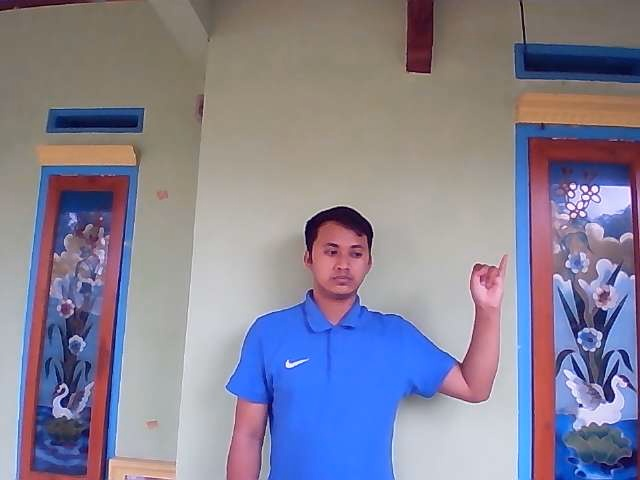I: (468, 253, 508, 309)
